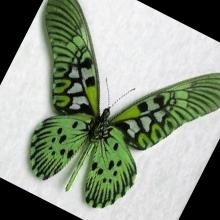butterfly: (29, 0, 220, 208)
